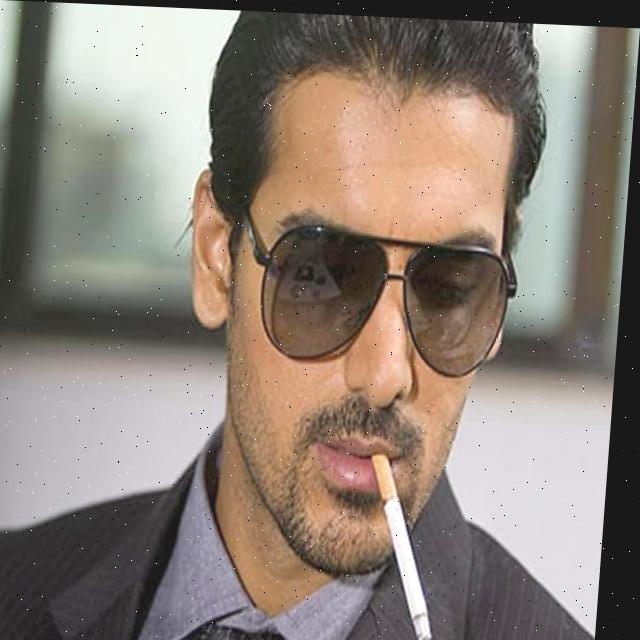cigarette: (367, 450, 454, 639)
